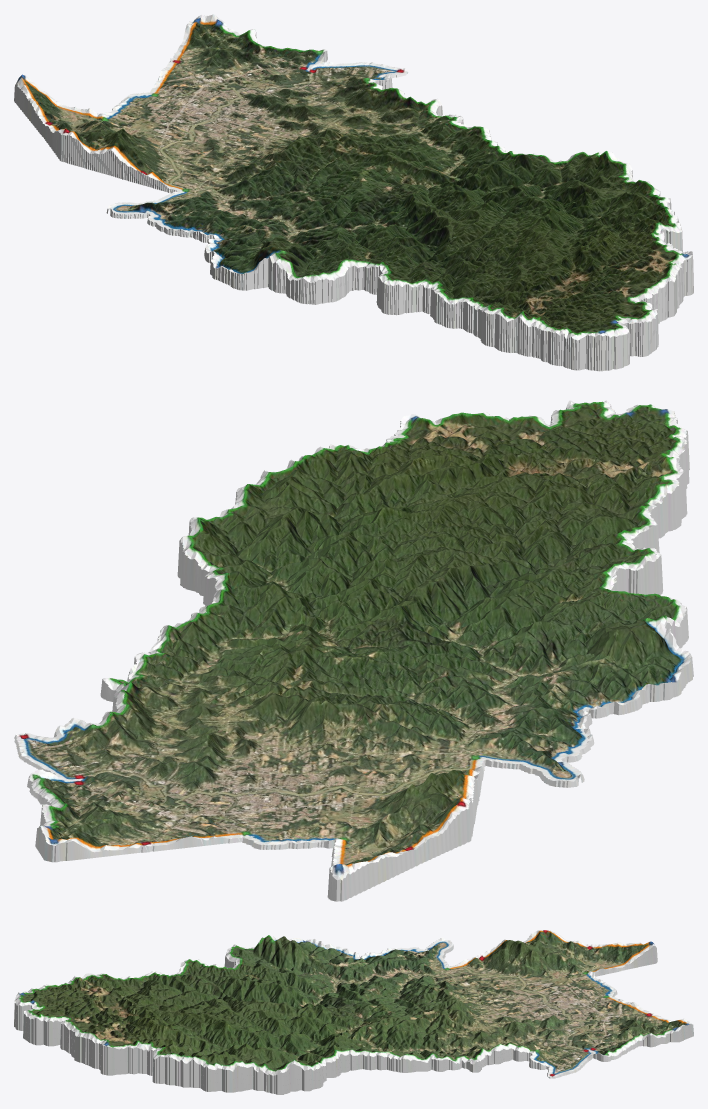
The picture shows the model from 3 angles, top to bottom: view 1: azimuth 30°, elevation 25°; view 2: azimuth 150°, elevation 25°; view 3: azimuth 270°, elevation 25°; orthographic projection. The views are drawn at different scales.
Size of the model in its own units: 1 by 0.103 by 1.89.
1 material, 1 textured.
